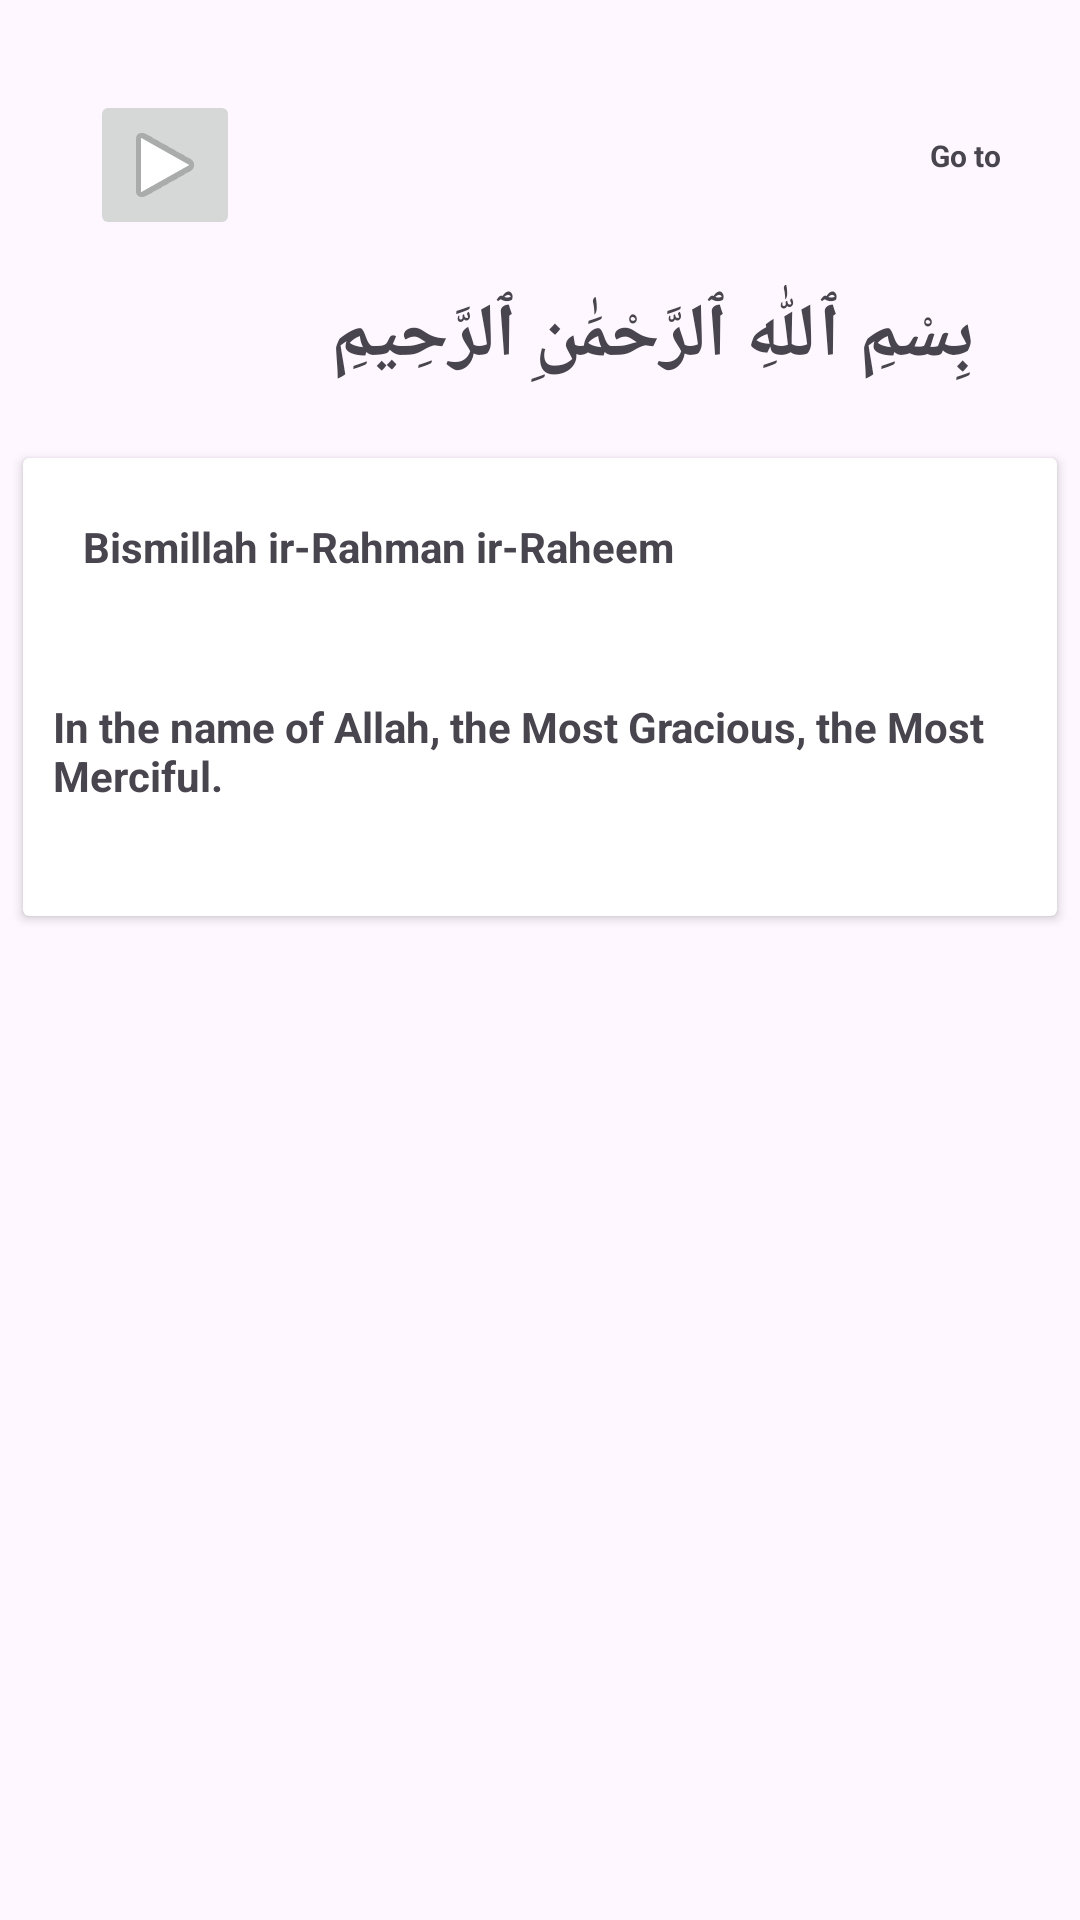

Icons on this 1080×1920 Android screen, each with the point to tap as point (x, y):
Play button: point (165, 165)
